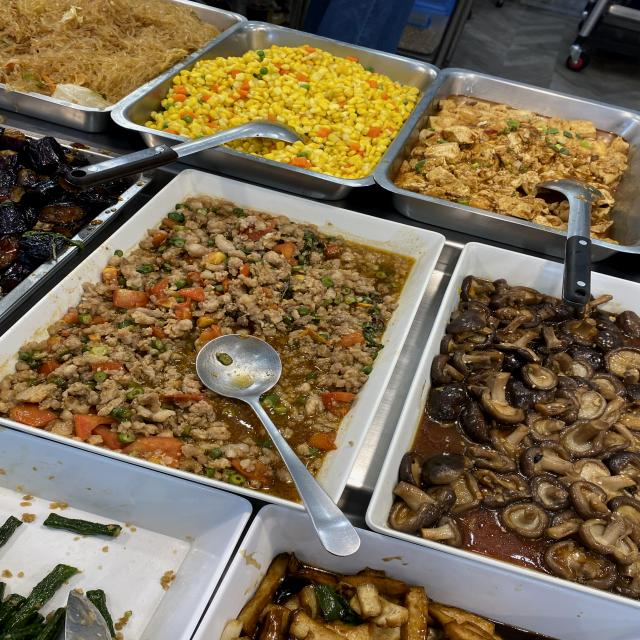Ants climbing the tree: (11, 3, 126, 84)
Mapo Tofu: (427, 121, 532, 190)
